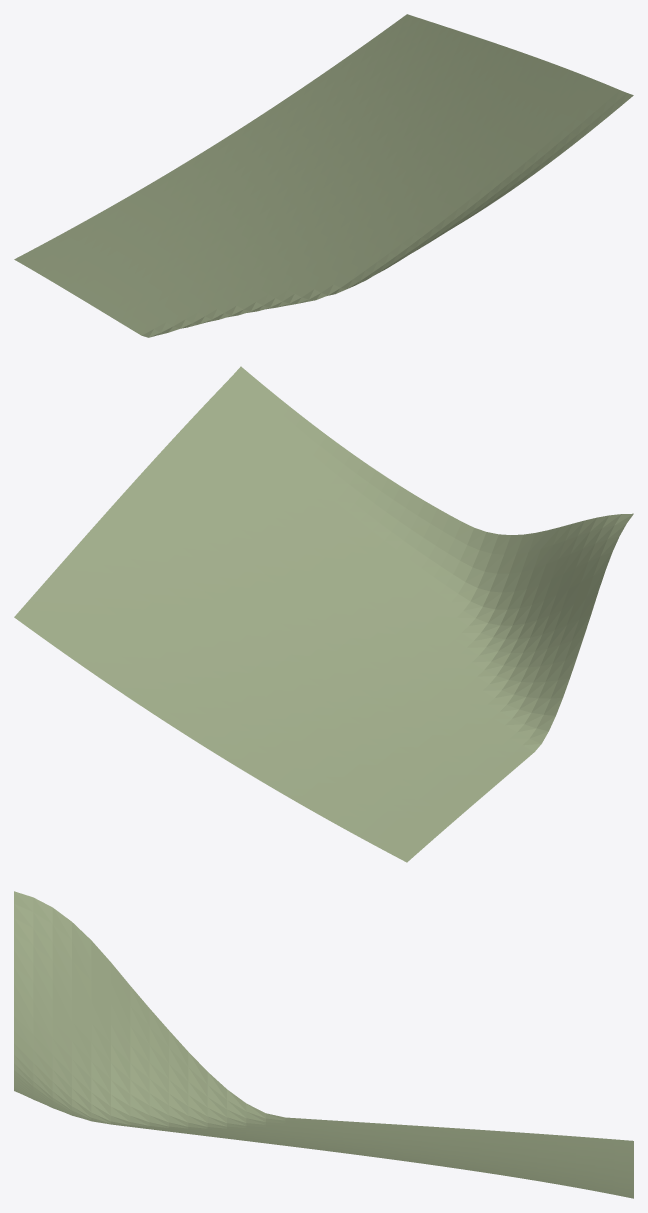
File: alpine-7-1.glb
The picture shows the model from 3 angles, top to bottom: view 1: azimuth 30°, elevation 25°; view 2: azimuth 150°, elevation 25°; view 3: azimuth 270°, elevation 25°; orthographic projection. The views are drawn at different scales.
Visible parts, largest first — view 1: alpine-7-1; view 2: alpine-7-1; view 3: alpine-7-1.
Boxes of the visible parts, <box> form: alpine-7-1: <box>14,14,633,337</box>; alpine-7-1: <box>14,366,633,862</box>; alpine-7-1: <box>14,891,633,1198</box>.
Size of the model in its own units: 256 by 146 by 256.
